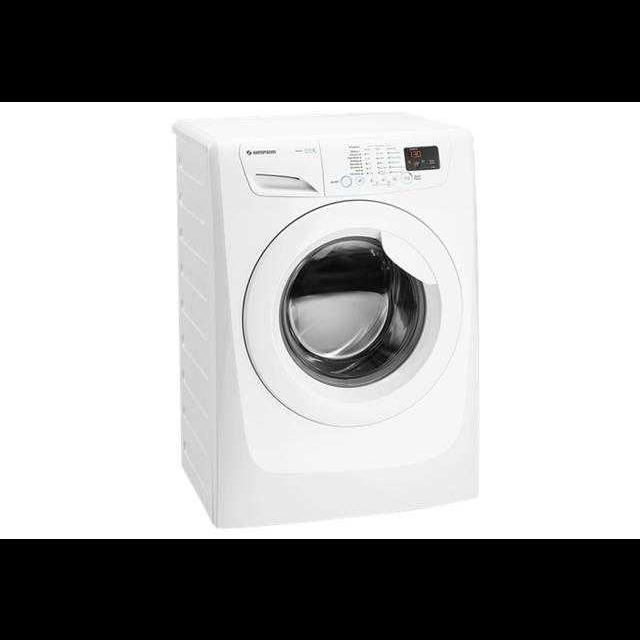Washing-Machine: (176, 114, 480, 508)
